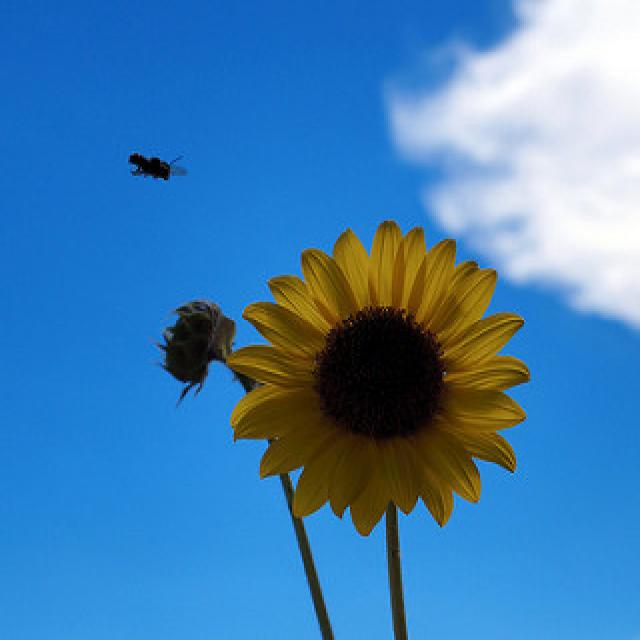sunflower: (221, 213, 535, 540)
